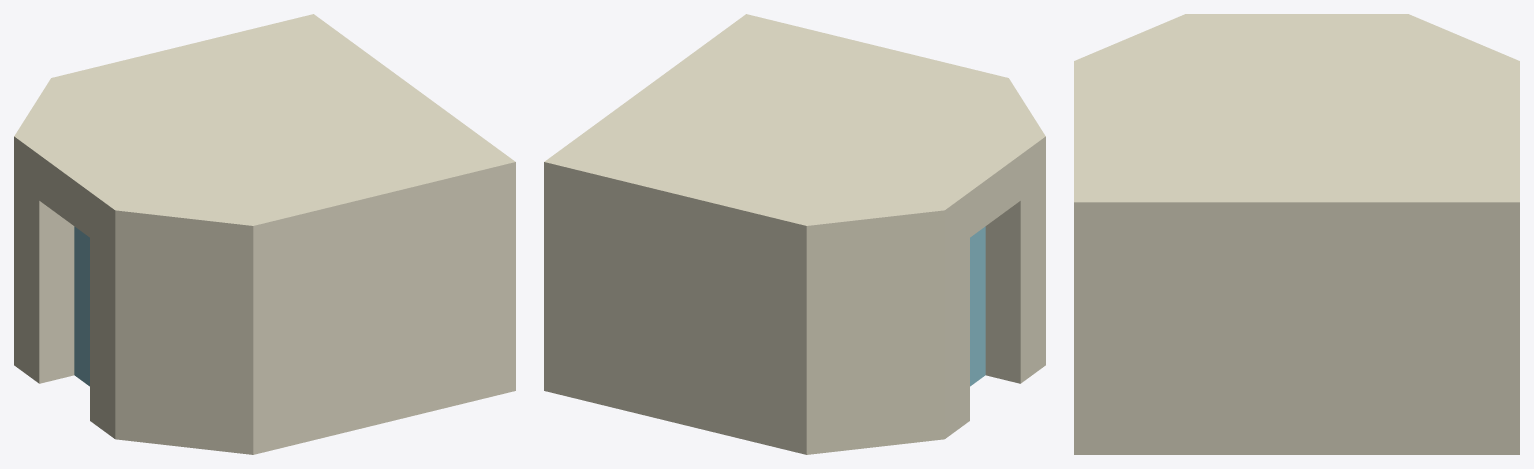
File: modularBuildings_060.fbx
The picture shows the model from 3 angles, left to right: view 1: azimuth 30°, elevation 25°; view 2: azimuth 150°, elevation 25°; view 3: azimuth 270°, elevation 25°; orthographic projection. The views are drawn at different scales.
Visible parts, largest first — view 1: Mesh1_Group1 Model; view 2: Mesh1_Group1 Model; view 3: Mesh1_Group1 Model.
Boxes of the visible parts, box(x1,y1,x2,y2) form: Mesh1_Group1 Model: box(14, 14, 515, 454); Mesh1_Group1 Model: box(544, 14, 1045, 454); Mesh1_Group1 Model: box(1074, 14, 1519, 454).
Size of the model in its own units: 1 by 0.625 by 1.
